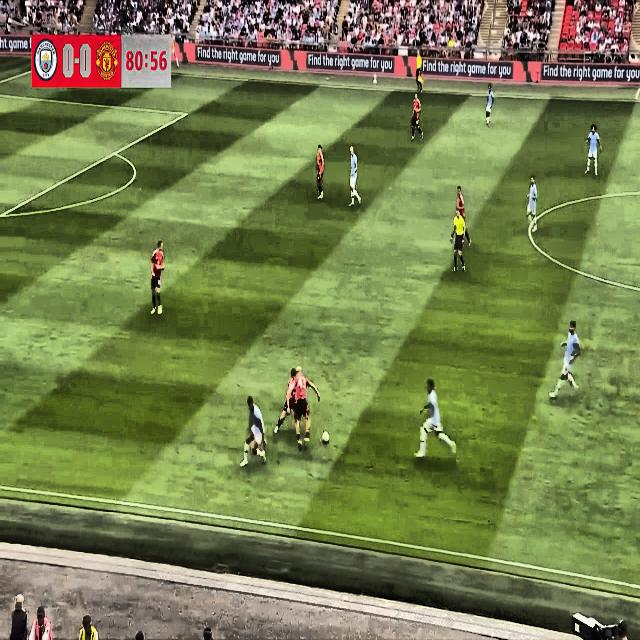ball: (322, 426, 330, 451)
players: (416, 379, 457, 477), (143, 227, 178, 324), (230, 388, 268, 476), (549, 310, 584, 402), (274, 358, 304, 446), (295, 366, 319, 450), (584, 110, 607, 192), (346, 140, 366, 216), (452, 182, 473, 250), (525, 173, 543, 238), (408, 92, 429, 143), (316, 140, 332, 203), (484, 71, 496, 128)
refree: (449, 205, 466, 286), (411, 46, 431, 99)
